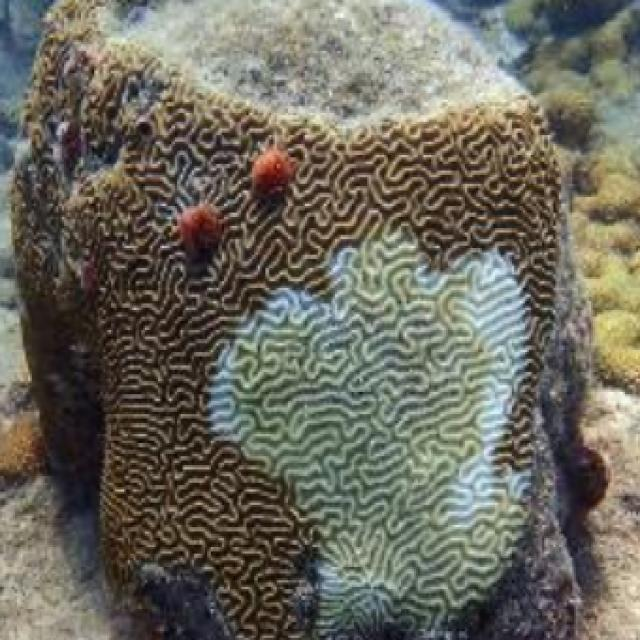Coral: (11, 0, 608, 640)
